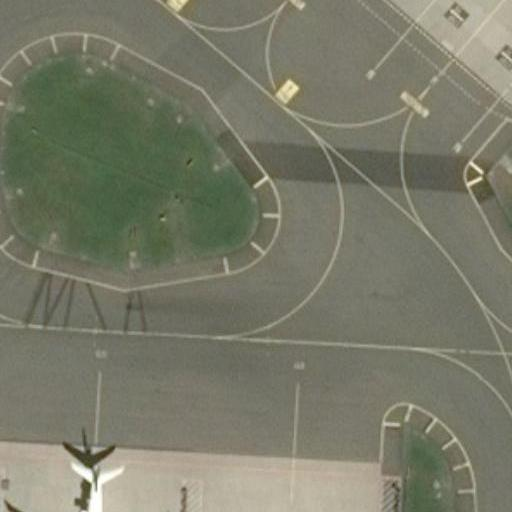Aircraft: (6, 442, 170, 512)
